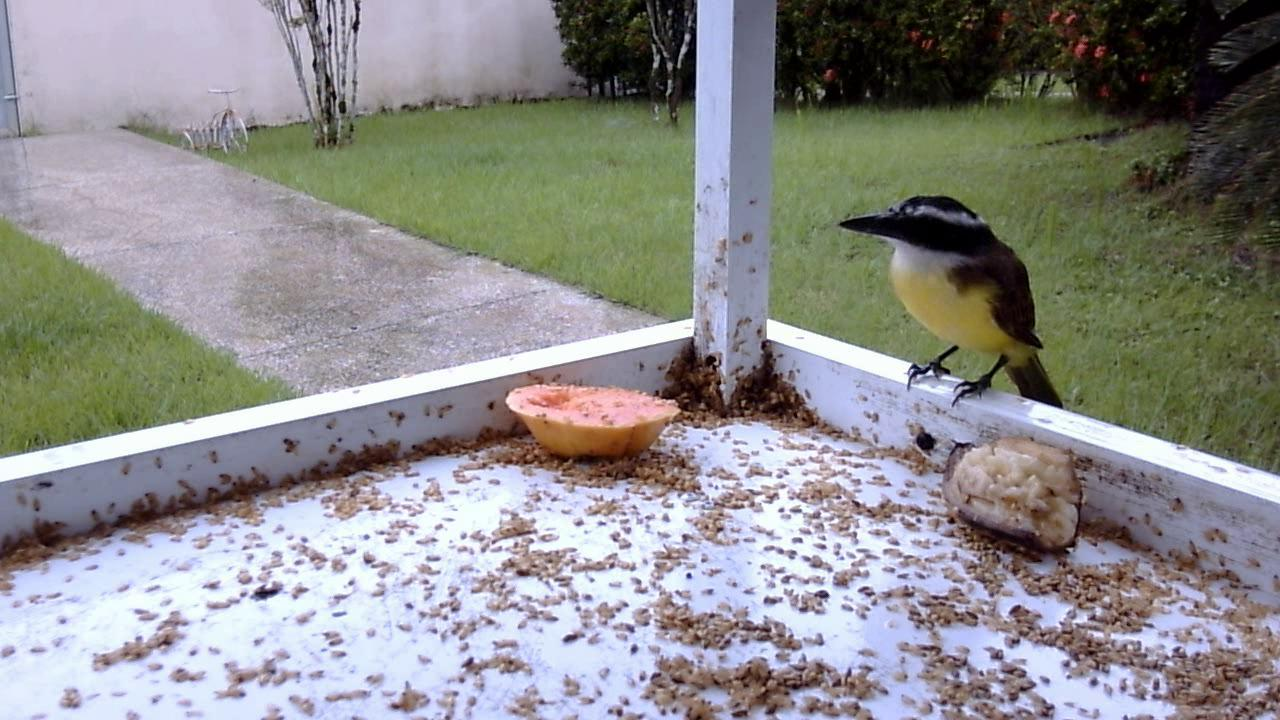bem_te_vi: (833, 189, 1073, 420)
